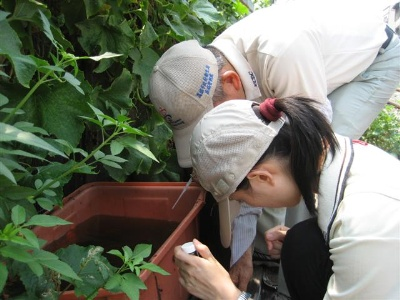box: (29, 181, 206, 300)
